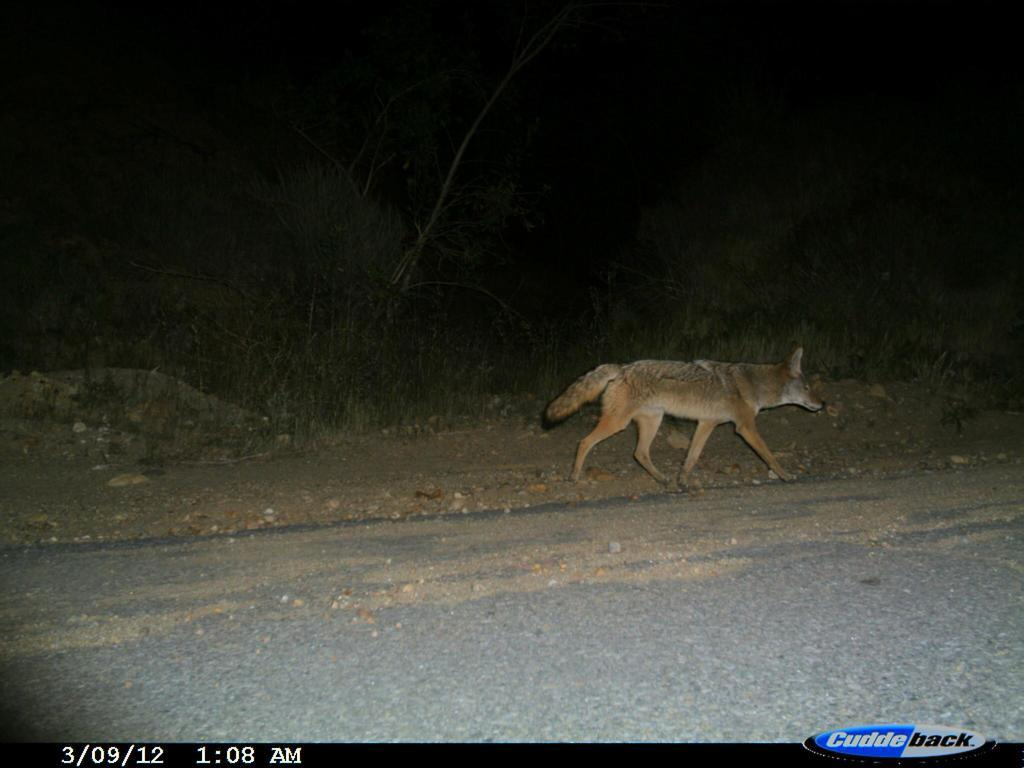coyote: (542, 342, 835, 495)
